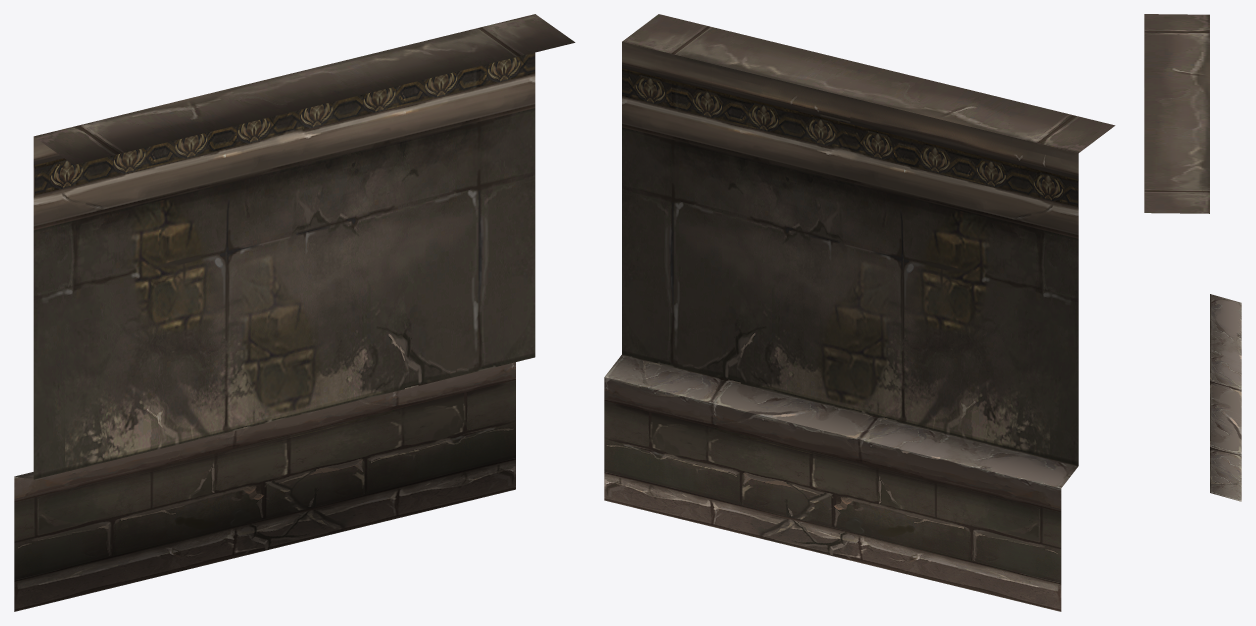
Rendered from a06_01_wall_k001.FBX.
3 views of the same model, side by side, from view 1: azimuth 30°, elevation 25°; view 2: azimuth 150°, elevation 25°; view 3: azimuth 270°, elevation 25° (orthographic). The views are drawn at different scales.
Parts seen in each view (by area): view 1: a06_01_wall_k001; view 2: a06_01_wall_k001; view 3: a06_01_wall_k001.
Part boxes in pixels (<box>): a06_01_wall_k001: <box>14,14,575,611</box>; a06_01_wall_k001: <box>604,14,1115,611</box>; a06_01_wall_k001: <box>1144,14,1241,501</box>.
Bounding box in the file's own units: 5.11 × 4.78 × 1.05.
1 material, 1 textured.
